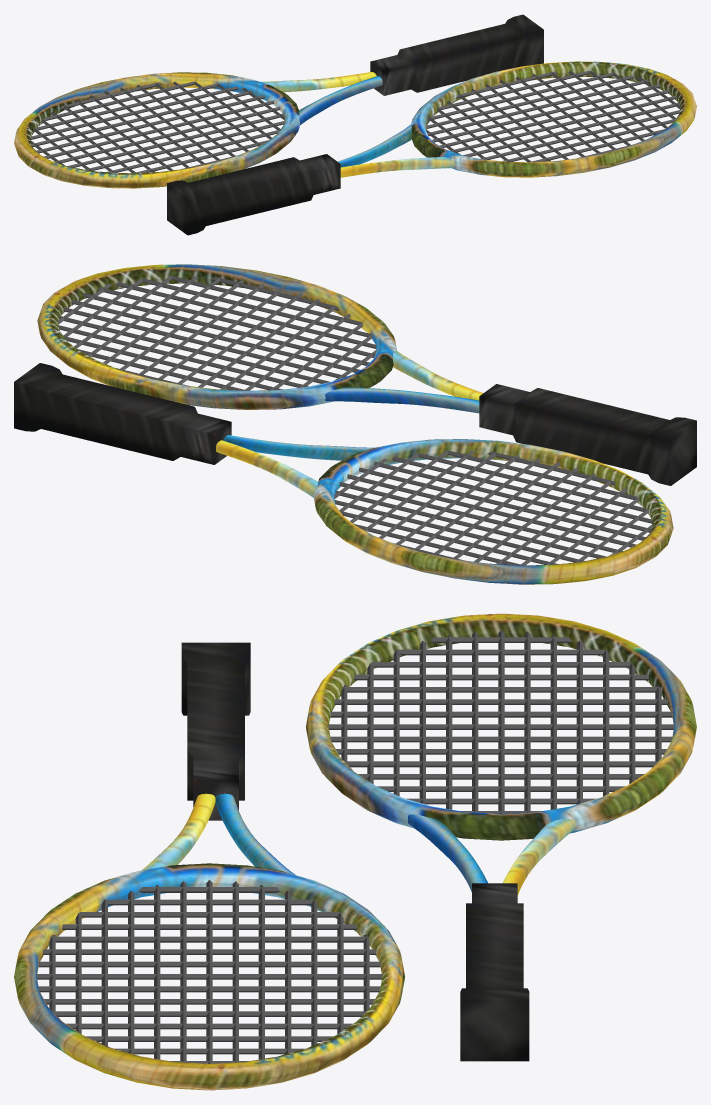
Rendered from badminton_racket.glb.
3 renders of one model, top to bottom at view 1: azimuth 30°, elevation 25°; view 2: azimuth 150°, elevation 25°; view 3: azimuth 270°, elevation 25°, orthographic. The views are drawn at different scales.
Parts seen in each view (by area): view 1: Plane_0, Plane.001_3, Cube.001_1, Cube.002_4, Cube_2, Cube.003_5; view 2: Plane.001_3, Plane_0, Cube.002_4, Cube.001_1, Cube_2, Cube.003_5; view 3: Plane.001_3, Plane_0, Cube.001_1, Cube.002_4, Cube.003_5, Cube_2.
Boxes of the visible parts, x1=… form: Plane_0: x1=426, y1=70, x2=680, y2=162; Plane.001_3: x1=30, y1=81, x2=284, y2=173; Cube.001_1: x1=338, y1=61, x2=696, y2=177; Cube.002_4: x1=14, y1=72, x2=382, y2=188; Cube_2: x1=167, y1=154, x2=340, y2=235; Cube.003_5: x1=370, y1=14, x2=543, y2=95; Plane.001_3: x1=333, y1=450, x2=652, y2=565; Plane_0: x1=58, y1=276, x2=377, y2=390; Cube.002_4: x1=216, y1=435, x2=673, y2=584; Cube.001_1: x1=37, y1=264, x2=483, y2=413; Cube_2: x1=479, y1=384, x2=696, y2=485; Cube.003_5: x1=14, y1=363, x2=231, y2=464; Plane.001_3: x1=328, y1=630, x2=674, y2=813; Plane_0: x1=36, y1=880, x2=382, y2=1063; Cube.001_1: x1=14, y1=793, x2=404, y2=1090; Cube.002_4: x1=306, y1=613, x2=696, y2=895; Cube.003_5: x1=460, y1=883, x2=529, y2=1061; Cube_2: x1=181, y1=642, x2=250, y2=820.
Bounding box in the file's own units: 5.23 × 0.325 × 3.26.
3 materials, 2 textured.
